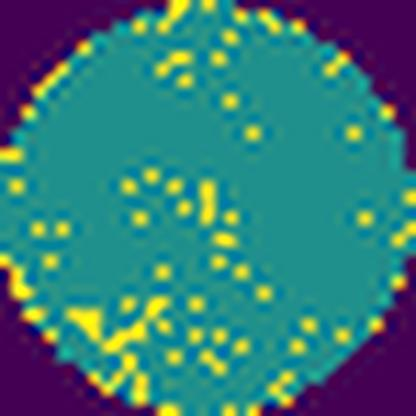Edge-Loc: (66, 306, 104, 347)
